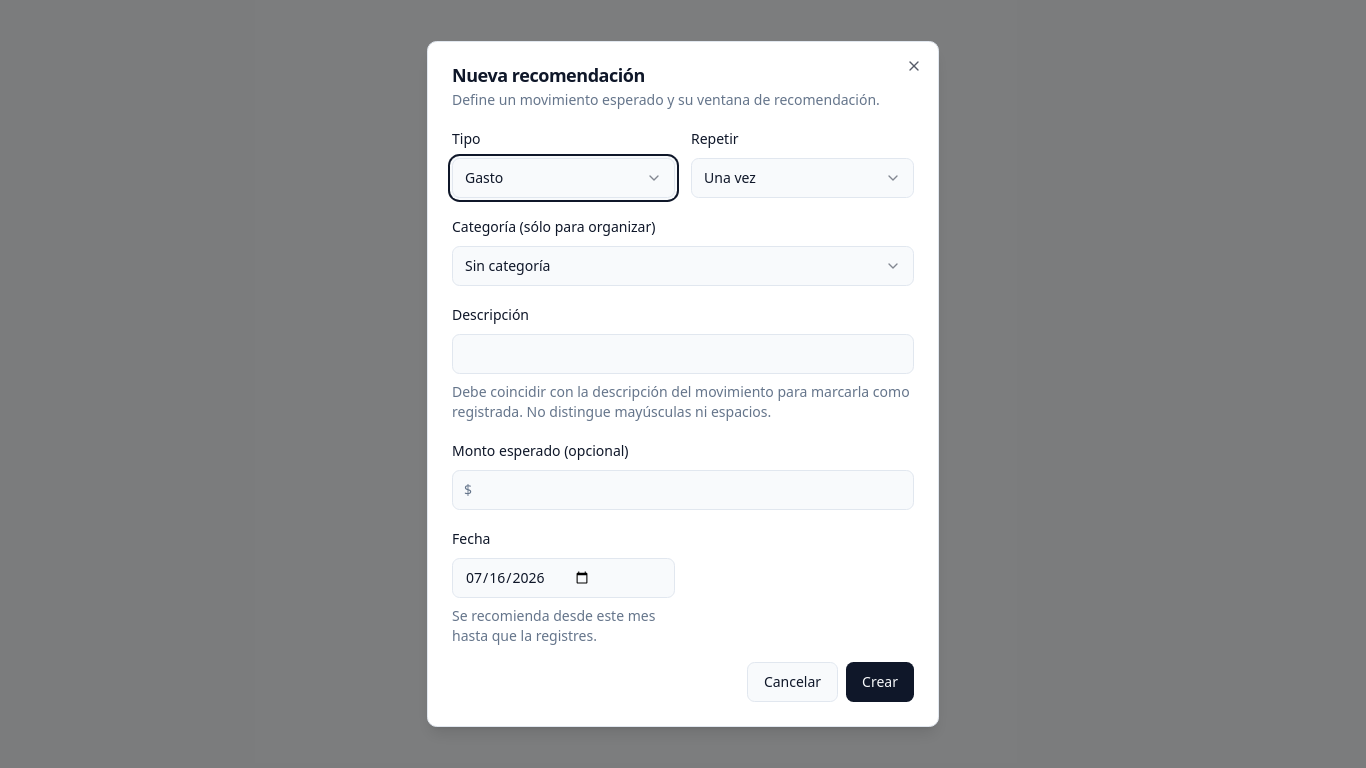
Test: RecommendedForm create › rejects a window end before the window start
The width and height of the screenshot is (1366, 768).
Click the dropdown named "Repetir".
click(802, 178)  # box [691,158,914,198]
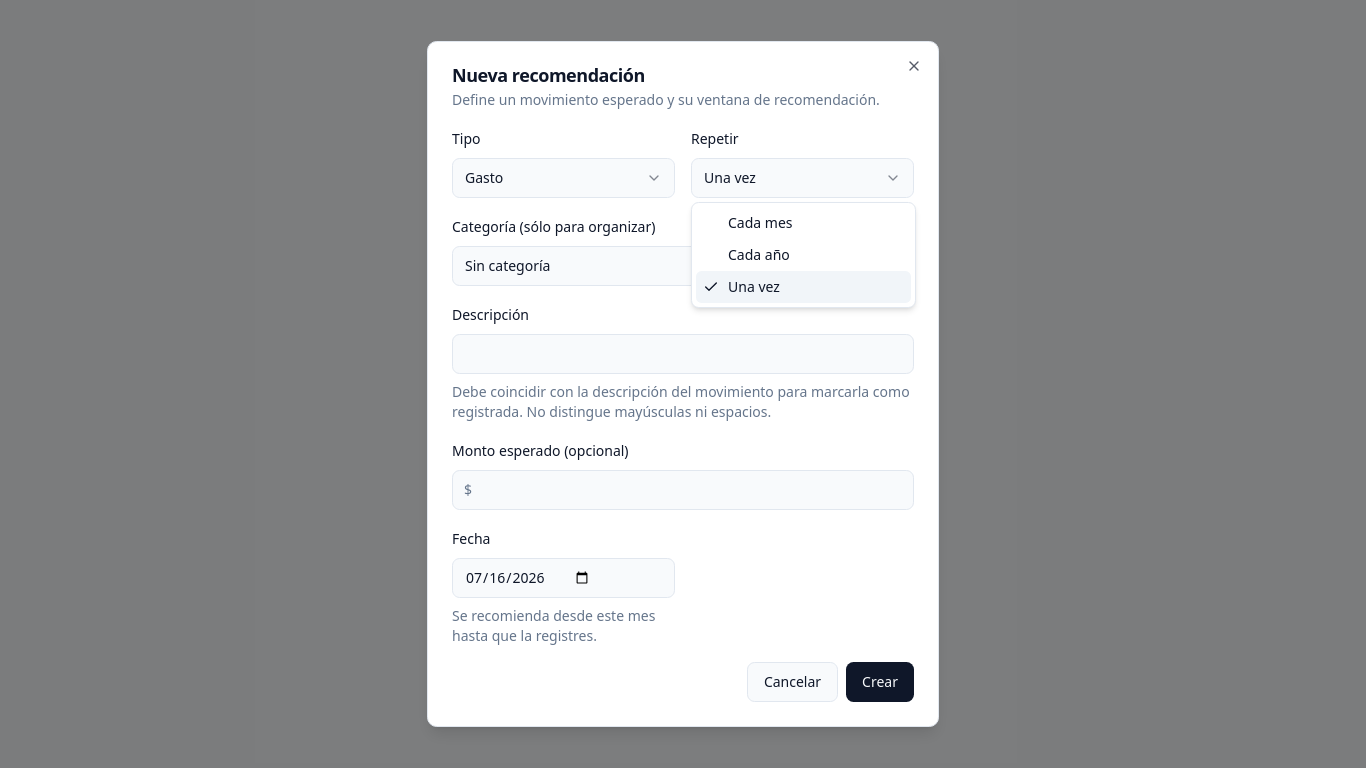
Click the option "Cada mes".
click(760, 222)  # box [728,213,792,232]
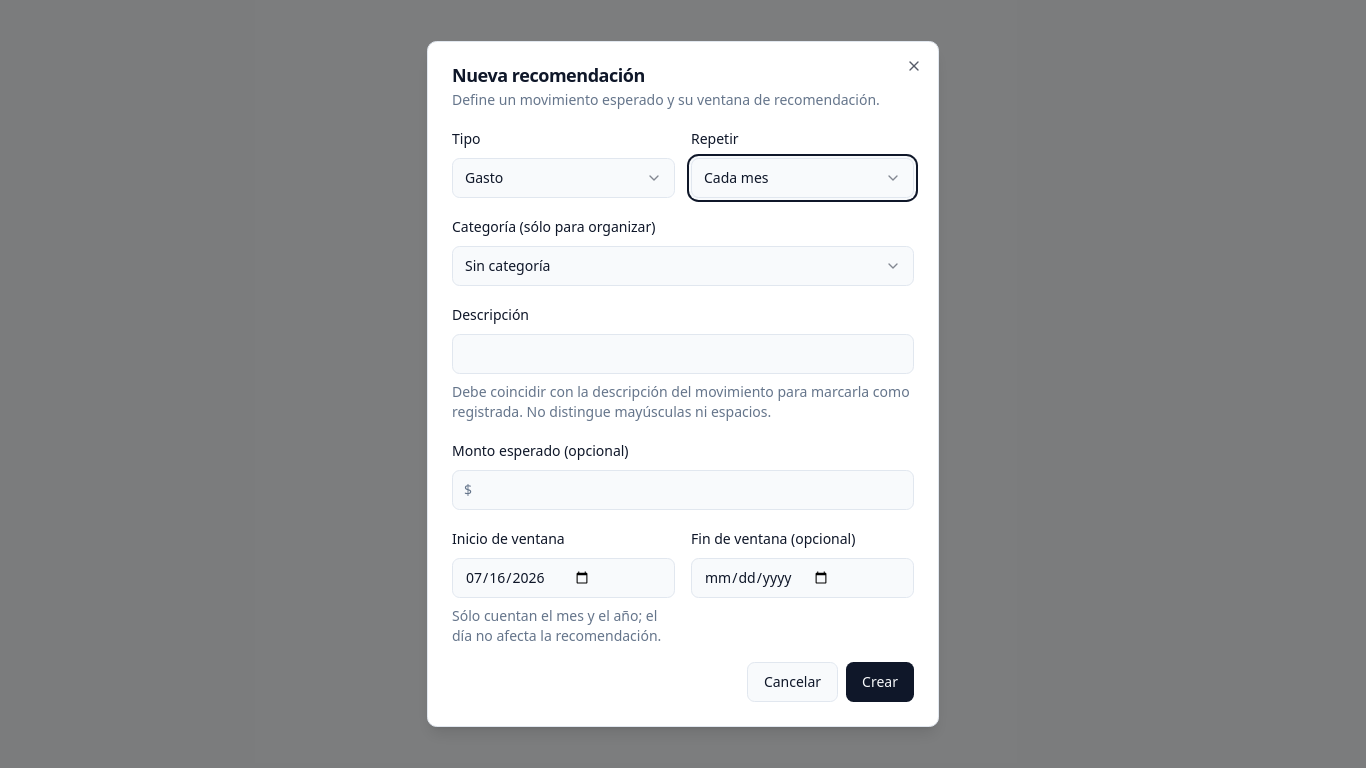
Expected: the date field labelled "Fin de ventana (opcional)" is shown, [691,558,914,598]
# Date inputs are set via change events (jsdom date typing is unreliable).
Type "2026-05-01" into the date field labelled "Inicio de ventana".
click(564, 578); type("2026-05-01")  # box [452,558,675,598]
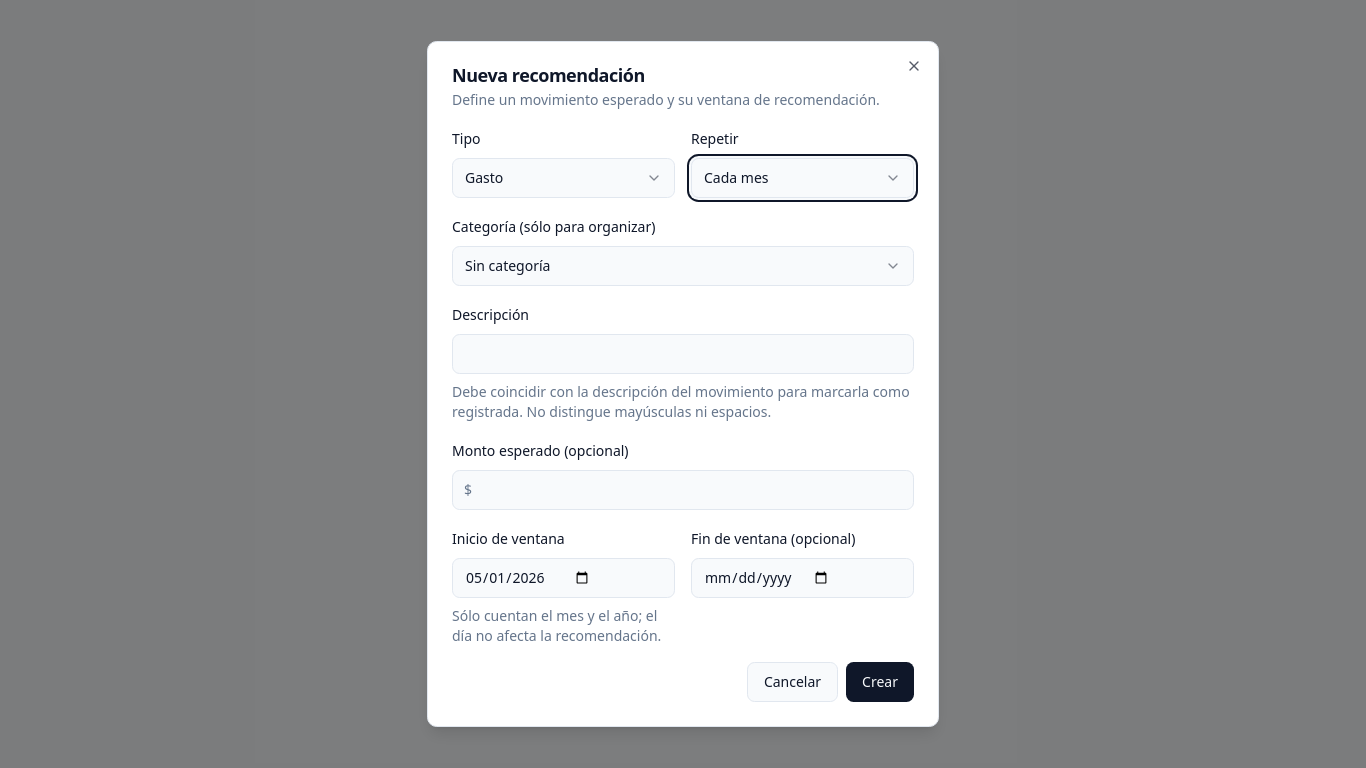
Type "2026-04-01" into the date field labelled "Fin de ventana (opcional)".
click(802, 578); type("2026-04-01")  # box [691,558,914,598]
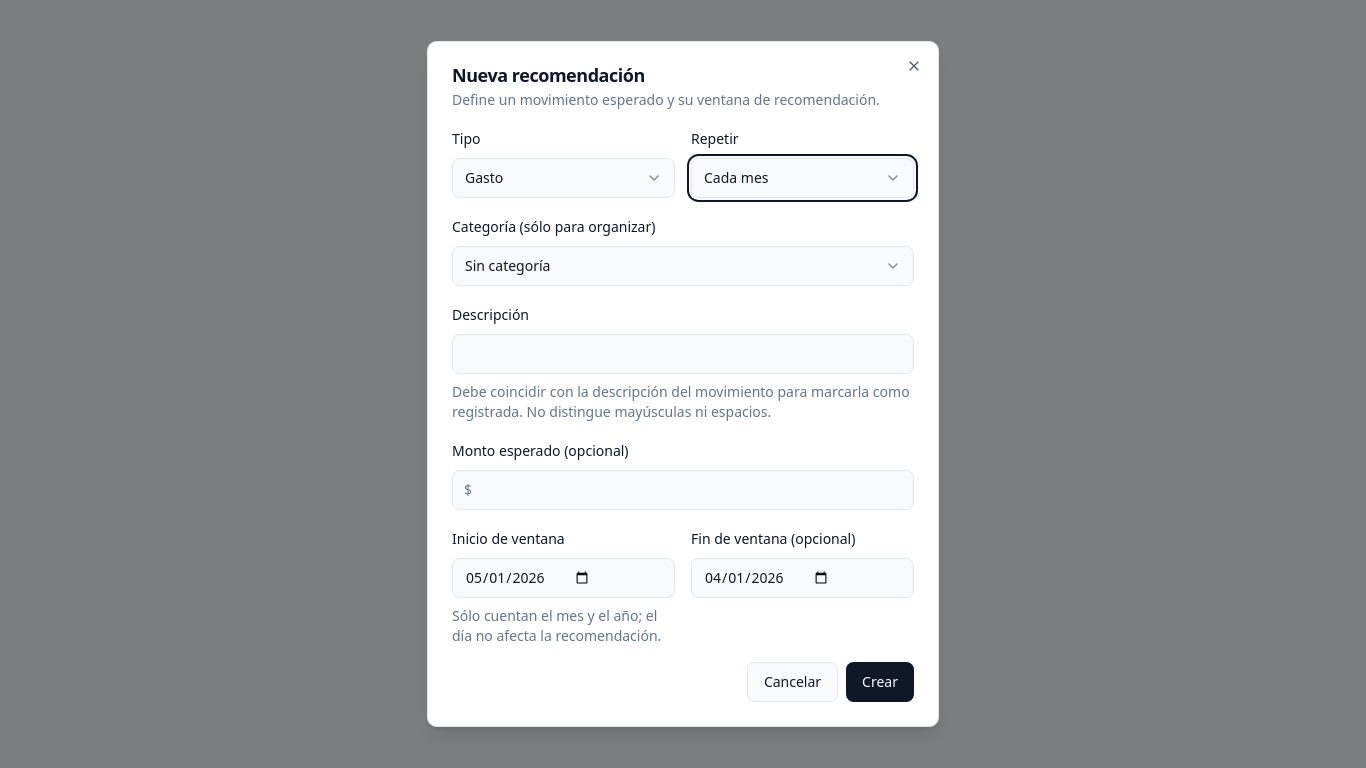
Click the button "Crear".
click(880, 682)  # box [846,662,914,702]
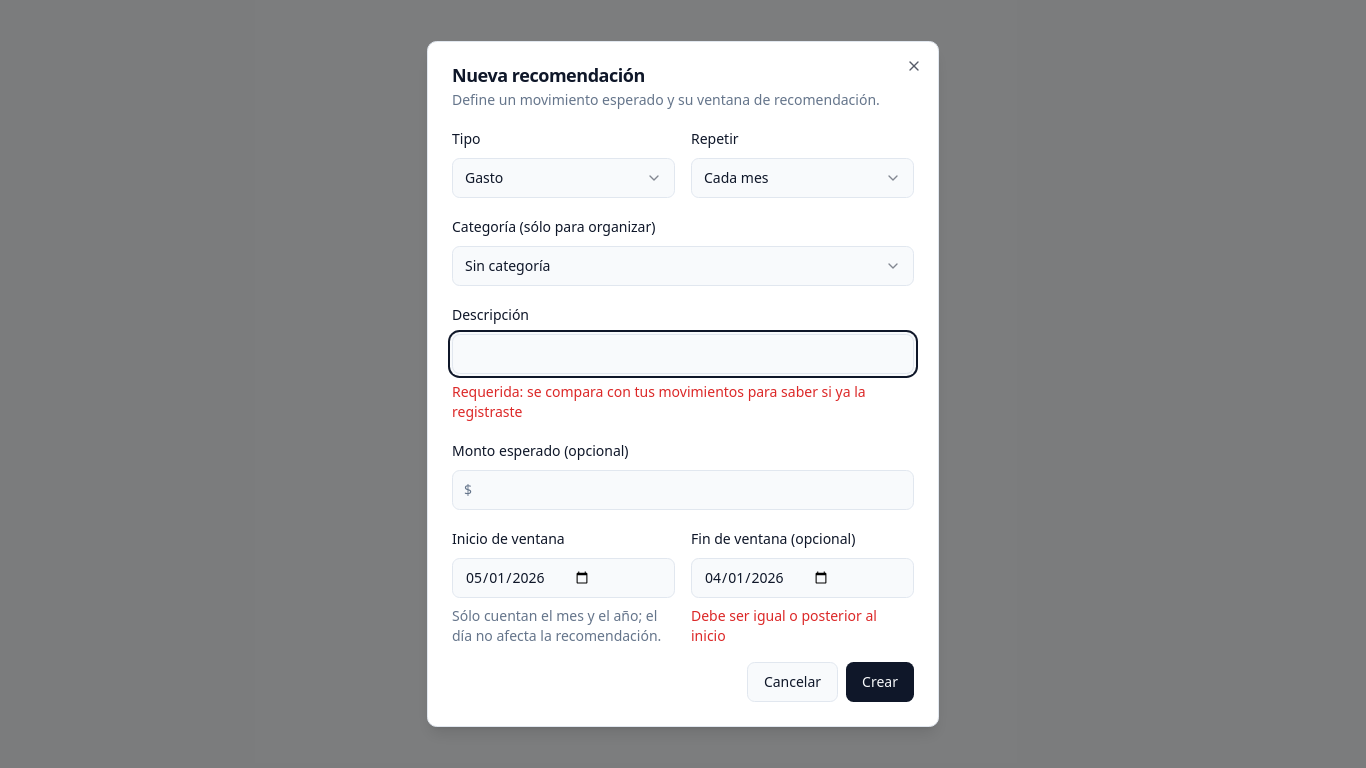
Expected: the text "Debe ser igual o posterior al inicio" is shown, [691,606,877,645]
